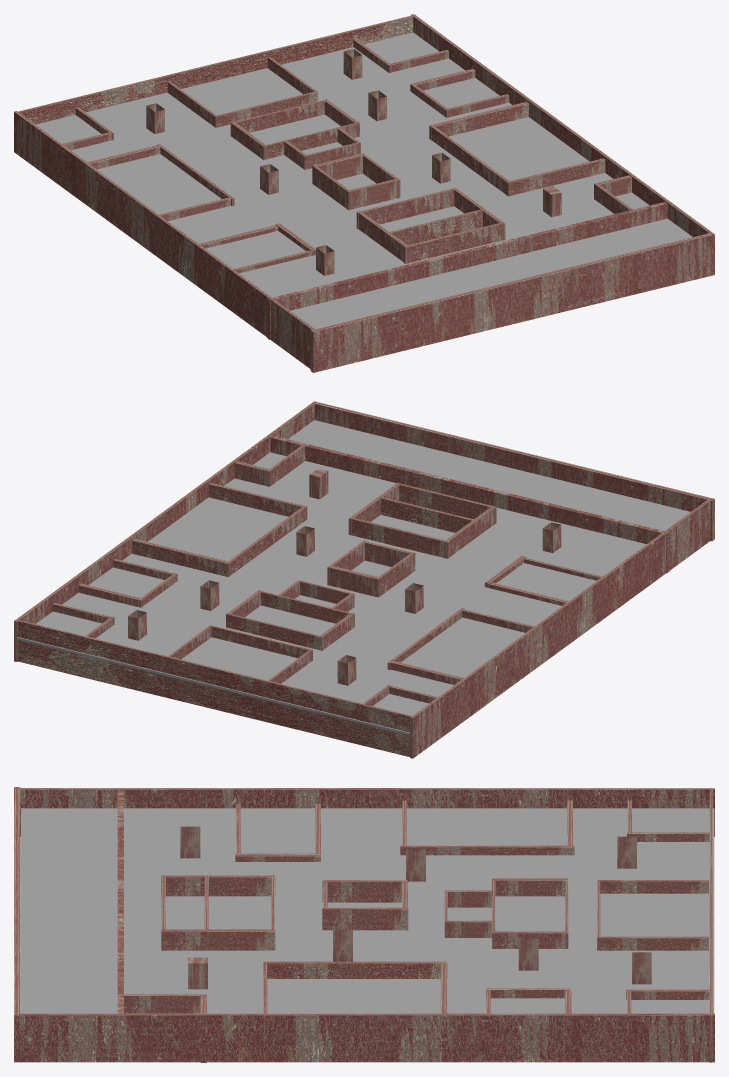
Rendered from Mansion_GreyBox(Latest).fbx.
3 renders of one model, top to bottom at view 1: azimuth 30°, elevation 25°; view 2: azimuth 150°, elevation 25°; view 3: azimuth 270°, elevation 25°, orthographic. The views are drawn at different scales.
Visible parts, largest first — view 1: Wall_Second, Wall_Outter2, polySurface8, Wall_Inner34, Wall_Outter, polySurface6, polySurface7, Wall_Inner33, Wall_Inner29, Wall_Inner38, Wall_Inner26, Wall_Inner25 (+20 smaller); view 2: Wall_Second, Wall_Outter, polySurface8, Wall_Outter2, Wall_Inner34, polySurface6, polySurface7, Wall_Inner29, Wall_Inner33, Wall_Inner25, Wall_Inner38, Wall_Inner3 (+17 smaller); view 3: Wall_Second, polySurface6, polySurface8, polySurface5, Wall_Inner24, Wall_Inner31, Wall_Inner30, Wall_Inner23, Wall_Inner15, Wall_Inner21, Wall_Inner2, Wall_Outter2 (+19 smaller).
Boxes of the visible parts, bbox=[...] form: Wall_Second: bbox=[36, 32, 692, 329]; Wall_Outter2: bbox=[310, 233, 714, 372]; polySurface8: bbox=[14, 111, 317, 363]; Wall_Inner34: bbox=[267, 202, 667, 339]; Wall_Outter: bbox=[17, 15, 415, 124]; polySurface6: bbox=[411, 14, 714, 236]; polySurface7: bbox=[14, 146, 310, 368]; Wall_Inner33: bbox=[403, 223, 501, 263]; Wall_Inner29: bbox=[356, 188, 454, 229]; Wall_Inner38: bbox=[386, 209, 484, 245]; Wall_Inner26: bbox=[506, 158, 605, 196]; Wall_Inner25: bbox=[429, 102, 528, 140]; Wall_Second: bbox=[17, 420, 690, 735]; Wall_Outter: bbox=[15, 619, 414, 756]; polySurface8: bbox=[410, 498, 710, 752]; Wall_Outter2: bbox=[314, 401, 714, 541]; Wall_Inner34: bbox=[270, 435, 669, 573]; polySurface6: bbox=[14, 401, 316, 656]; polySurface7: bbox=[410, 535, 710, 758]; Wall_Inner29: bbox=[352, 517, 449, 558]; Wall_Inner33: bbox=[399, 483, 496, 524]; Wall_Inner25: bbox=[131, 538, 231, 576]; Wall_Inner38: bbox=[379, 496, 476, 532]; Wall_Inner3: bbox=[226, 614, 323, 650]; Wall_Second: bbox=[21, 808, 714, 1013]; polySurface6: bbox=[14, 1013, 714, 1055]; polySurface8: bbox=[15, 788, 714, 830]; polySurface5: bbox=[14, 1055, 714, 1062]; Wall_Inner24: bbox=[265, 961, 447, 978]; Wall_Inner31: bbox=[161, 929, 275, 950]; Wall_Inner30: bbox=[161, 875, 275, 896]; Wall_Inner23: bbox=[322, 907, 408, 930]; Wall_Inner15: bbox=[400, 845, 574, 855]; Wall_Inner21: bbox=[322, 880, 407, 902]; Wall_Inner2: bbox=[599, 936, 708, 950]; Wall_Outter2: bbox=[14, 787, 20, 1062].
Size of the model in its own units: 20047 by 2286 by 26007.
